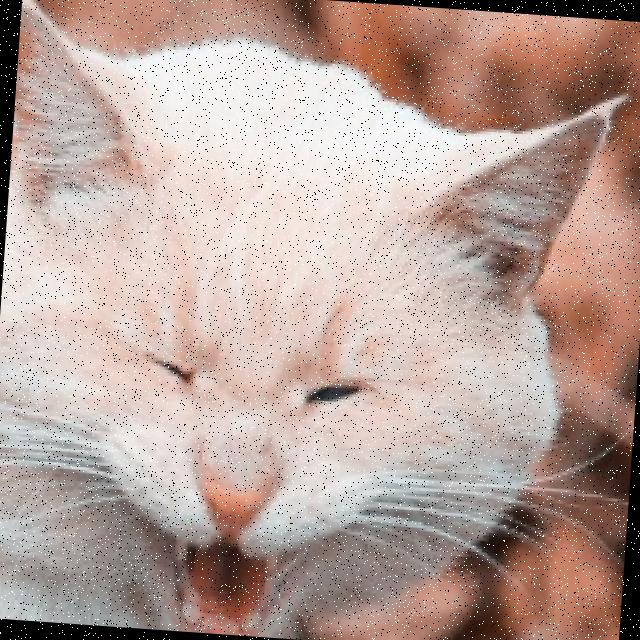Angry: (33, 284, 466, 640)
